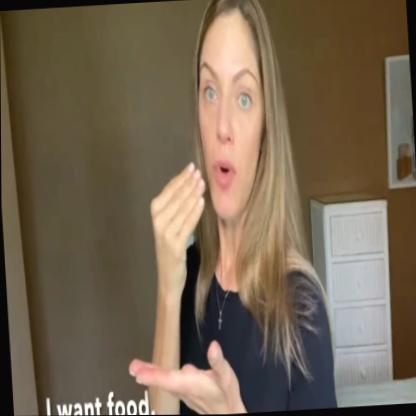Food: (135, 0, 299, 288)
